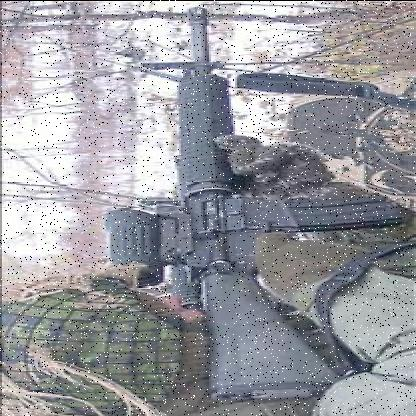rifle: (130, 7, 388, 400)
